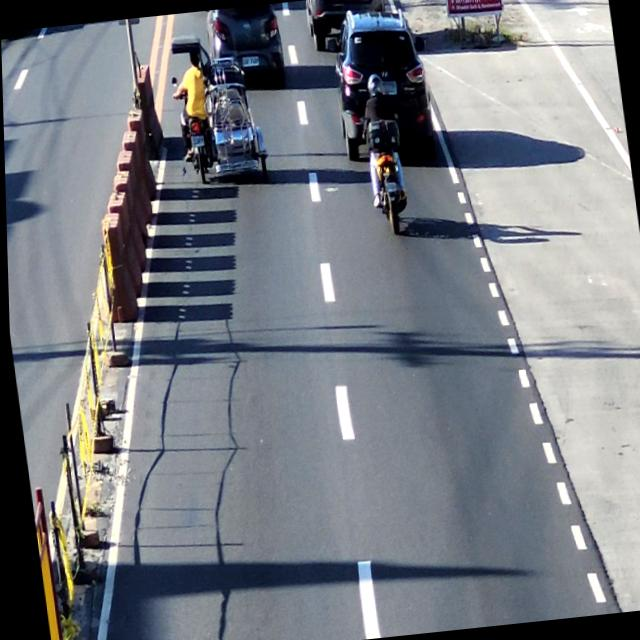Car: (327, 7, 440, 154)
License-Plate: (205, 3, 286, 95), (381, 177, 401, 196), (186, 130, 204, 148)
Motorcycle: (359, 75, 415, 243)
Tricycle: (164, 34, 269, 188)
